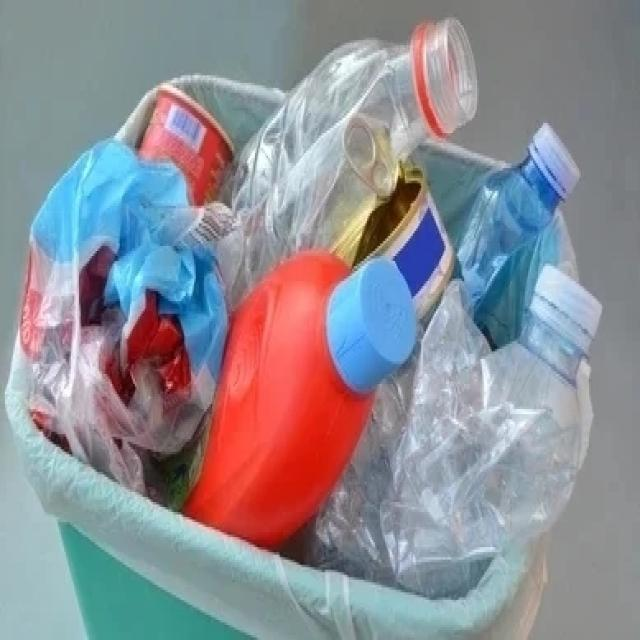Garbage: (19, 21, 601, 597)
Plastic_Bag: (20, 139, 228, 487), (289, 280, 490, 584)
Plastic_Container: (182, 252, 416, 546)
Plastic_bottle: (220, 17, 476, 300), (382, 267, 600, 594), (458, 126, 580, 312)
Tin_box: (354, 162, 454, 319)
